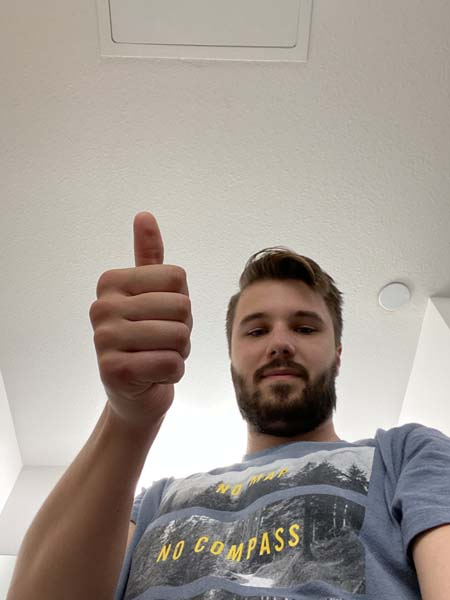Thumbs Up: (83, 203, 203, 425)
